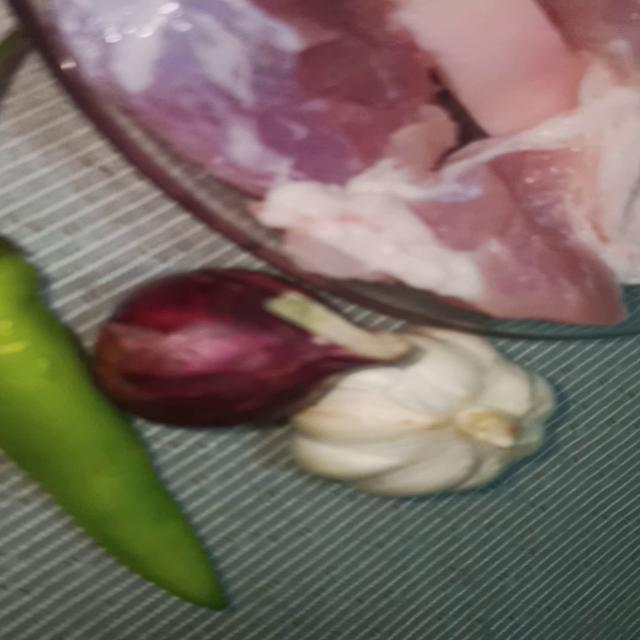chili_pepper: (0, 213, 255, 635)
garlic: (276, 325, 578, 512)
onion: (95, 263, 364, 445)
pork: (249, 127, 631, 325), (39, 0, 430, 180), (376, 0, 640, 165)
